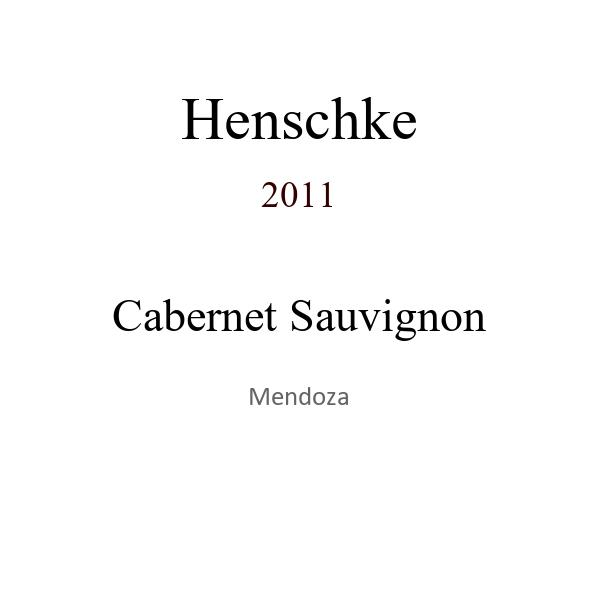brand: (181, 85, 418, 127)
region: (248, 384, 350, 402)
variety: (112, 290, 486, 332)
vintage: (261, 174, 337, 199)
